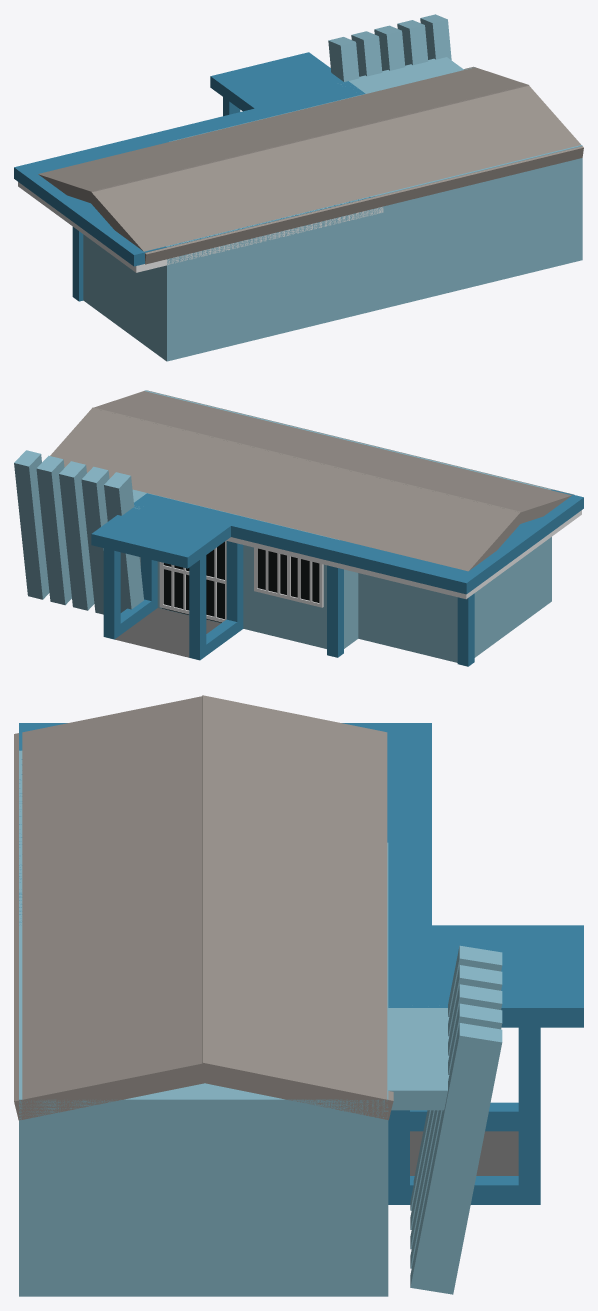
Rendered from GuidanceService.glb.
3 renders of one model, top to bottom at view 1: azimuth 30°, elevation 25°; view 2: azimuth 150°, elevation 25°; view 3: azimuth 270°, elevation 25°, orthographic. The views are drawn at different scales.
Parts seen in each view (by area): view 1: cube.045; view 2: cube.045; view 3: cube.045.
Part boxes in pixels (<box>): cube.045: <box>14,14,583,361</box>; cube.045: <box>14,390,583,666</box>; cube.045: <box>14,695,583,1296</box>.
Bounding box in the file's own units: 2.56 × 0.8219 × 1.64.
9 materials, 6 textured.
